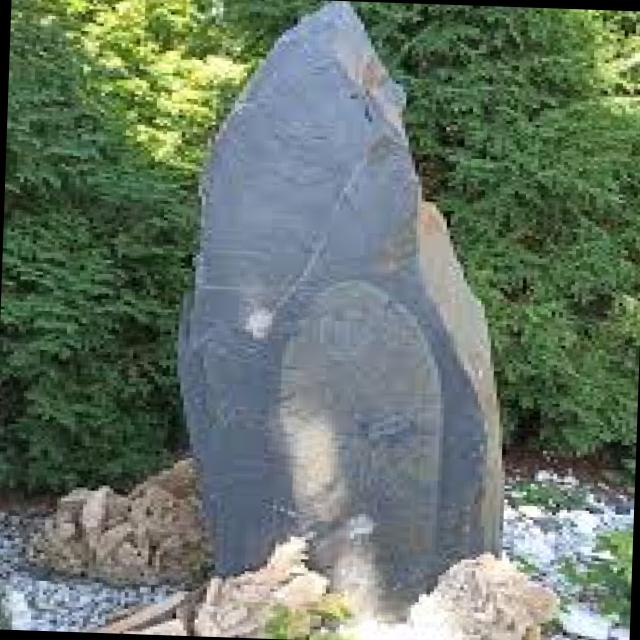stone: (180, 0, 499, 604)
